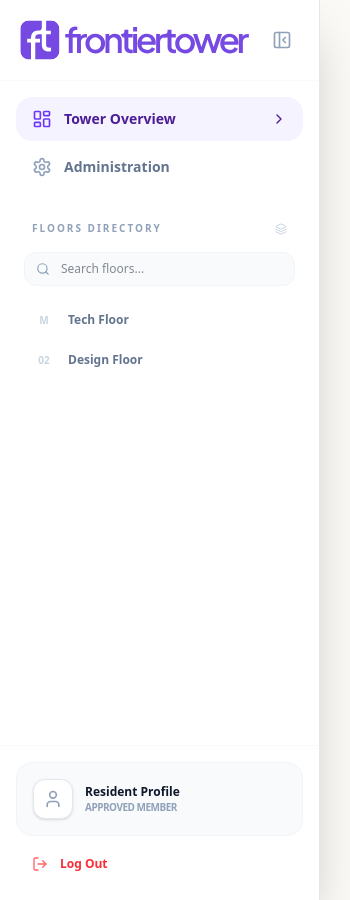
Test case: Sidebar Component › filters floors based on search query
Type "Tech" into the field with placeholder "Search floors..." at (160, 269), box [24,252,295,286]
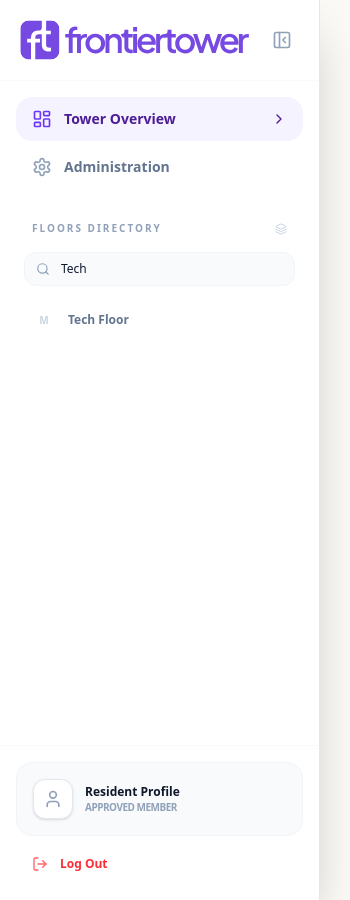
Expected: the text "Tech Floor" is shown, [68,312,129,328]
Now the button "Design Floor" is gone
